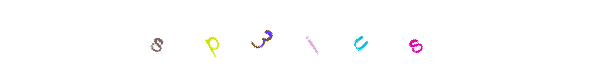3: (236, 0, 316, 80)
J: (255, 0, 335, 80)
P: (172, 0, 252, 80)
S: (160, 0, 240, 80), (325, 0, 405, 80)
U: (320, 0, 400, 80)
